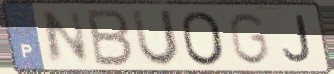B: (85, 7, 136, 69)
G: (226, 10, 272, 67)
J: (280, 13, 314, 65)
N: (40, 8, 92, 68)
O: (178, 9, 228, 68)
U: (129, 7, 182, 69)
